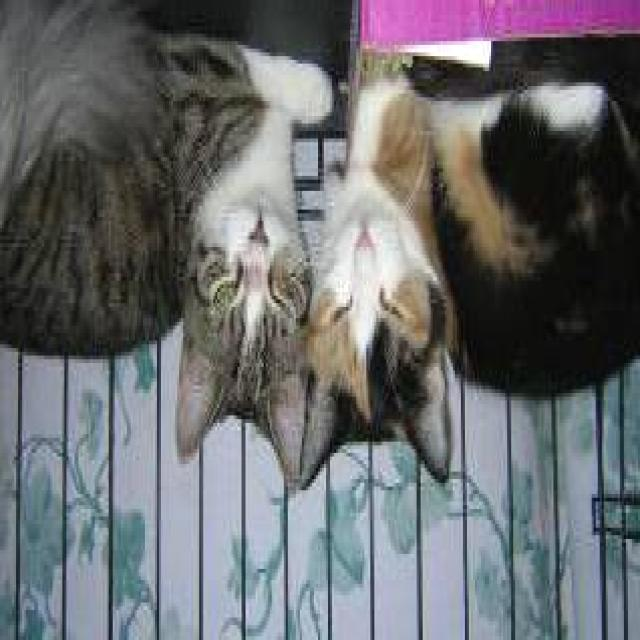Kucing: (302, 52, 634, 583), (4, 17, 300, 587)
